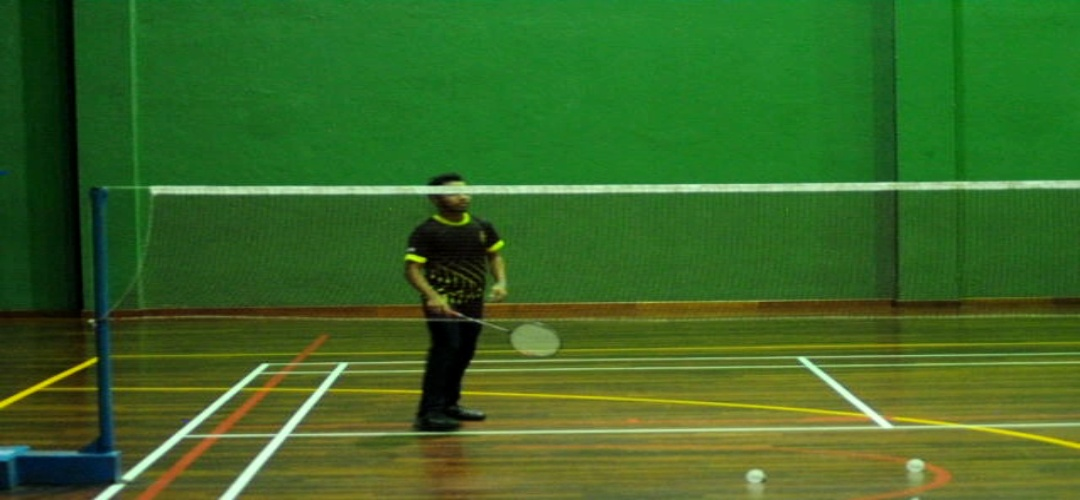c1: (269, 423, 299, 446)
c2: (871, 420, 899, 437)
player: (400, 171, 511, 433)
